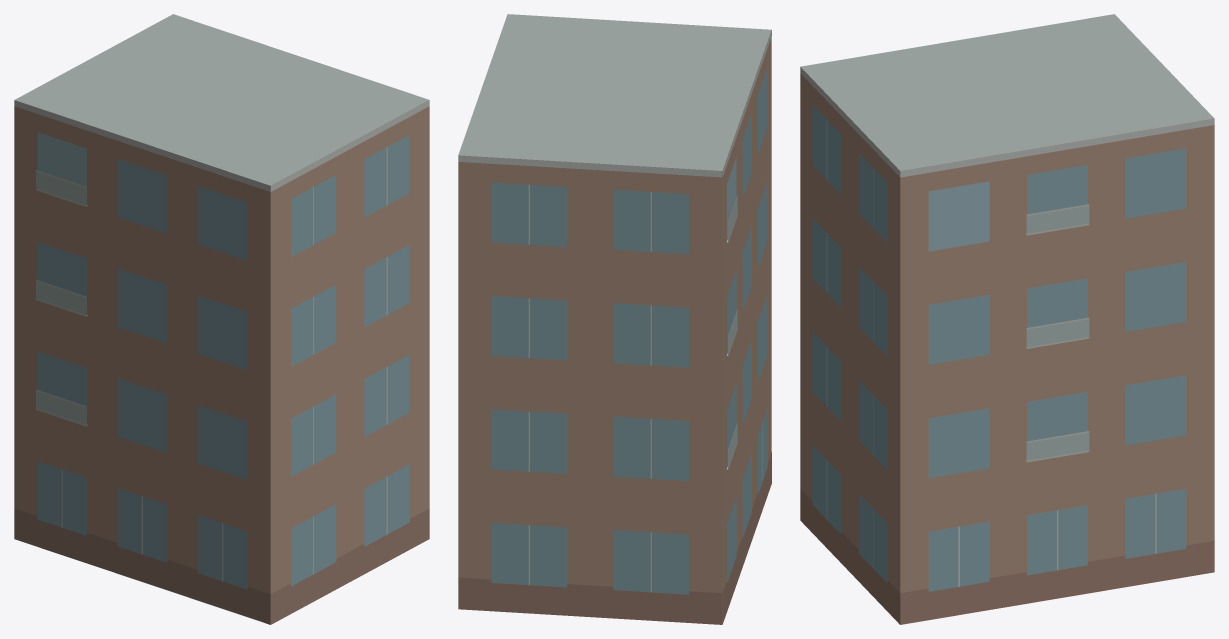
File: survey-upis-33026917.glb
The picture shows the model from 3 angles, left to right: view 1: azimuth 30°, elevation 25°; view 2: azimuth 150°, elevation 25°; view 3: azimuth 270°, elevation 25°; orthographic projection. The views are drawn at different scales.
Parts seen in each view (by area): view 1: survey-upis-33026917.tmp; view 2: survey-upis-33026917.tmp; view 3: survey-upis-33026917.tmp.
Part boxes in pixels (x1,y1,x2,y2): survey-upis-33026917.tmp: (14,14,429,624); survey-upis-33026917.tmp: (458,14,771,624); survey-upis-33026917.tmp: (800,14,1214,624).
Bounding box in the file's own units: 12.75 × 17.16 × 14.21.
